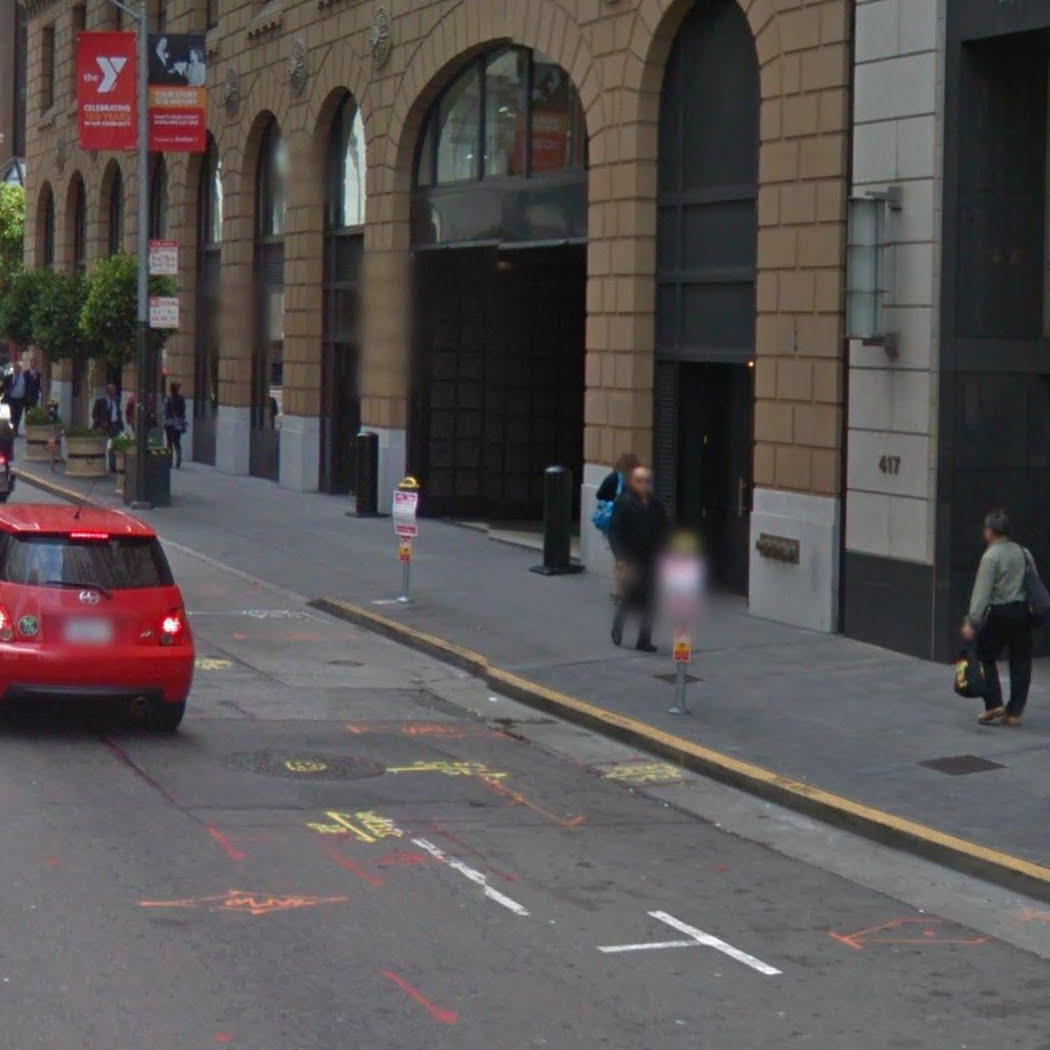No Parking: (147, 295, 181, 331)
